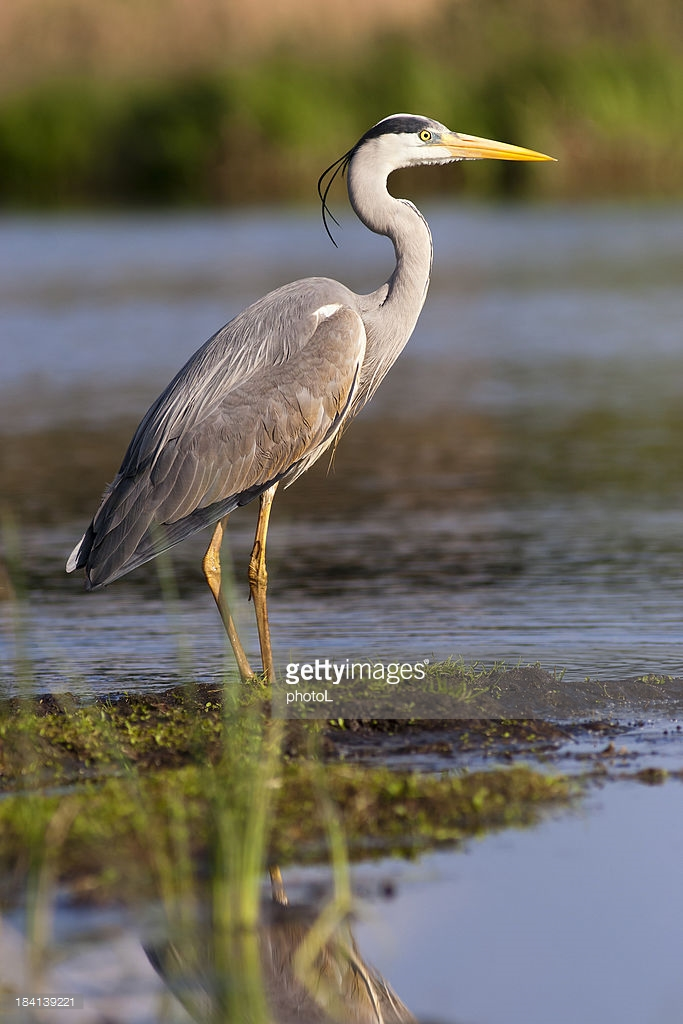heron: (79, 103, 571, 649)
